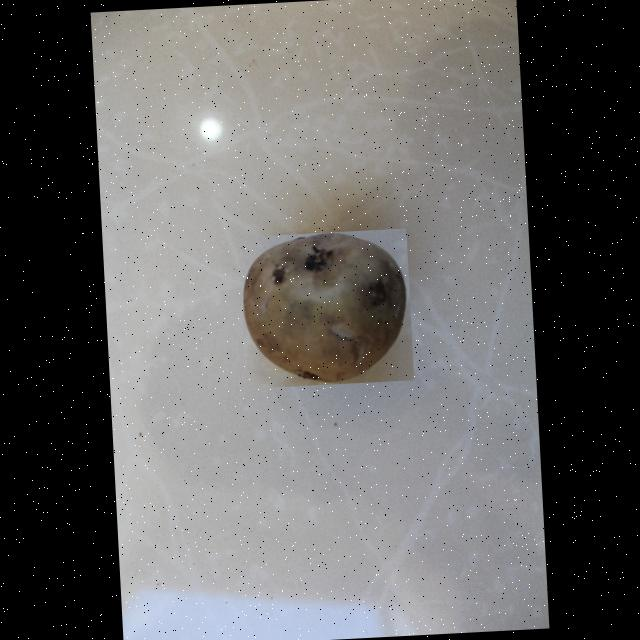Diseased-fungal potato: (238, 227, 414, 388)
